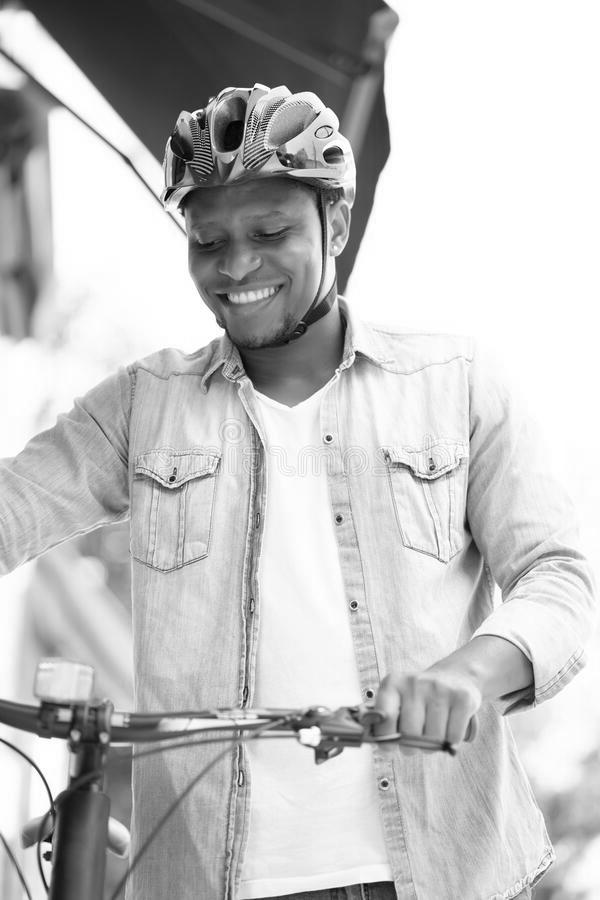Helmet: (163, 87, 357, 214)
